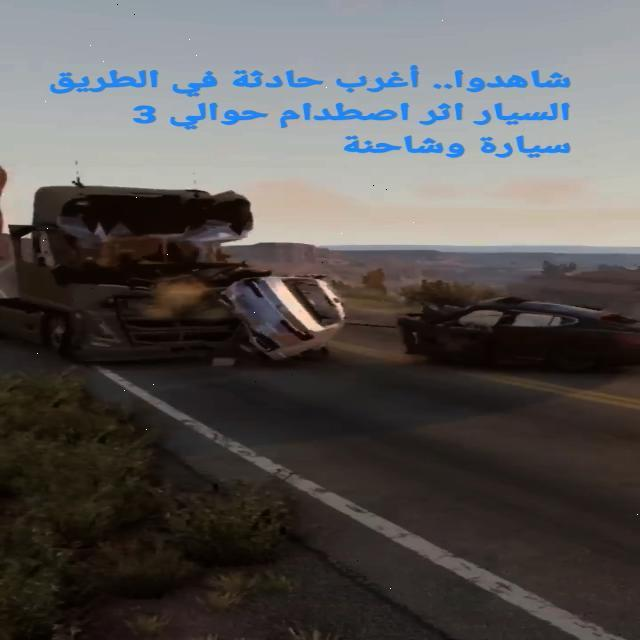accident: (12, 168, 352, 372)
